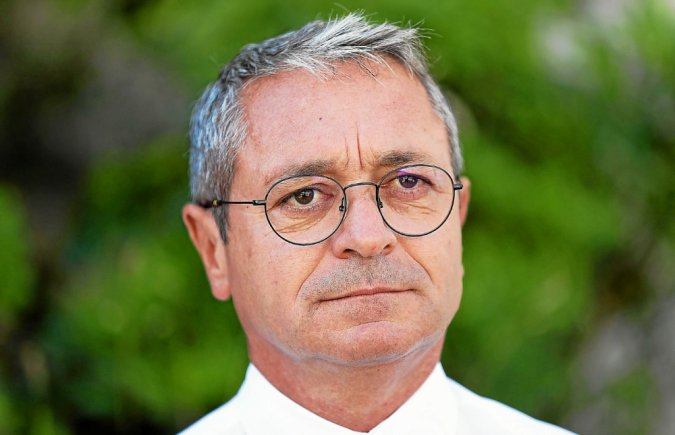without_mask: (232, 78, 467, 352)
